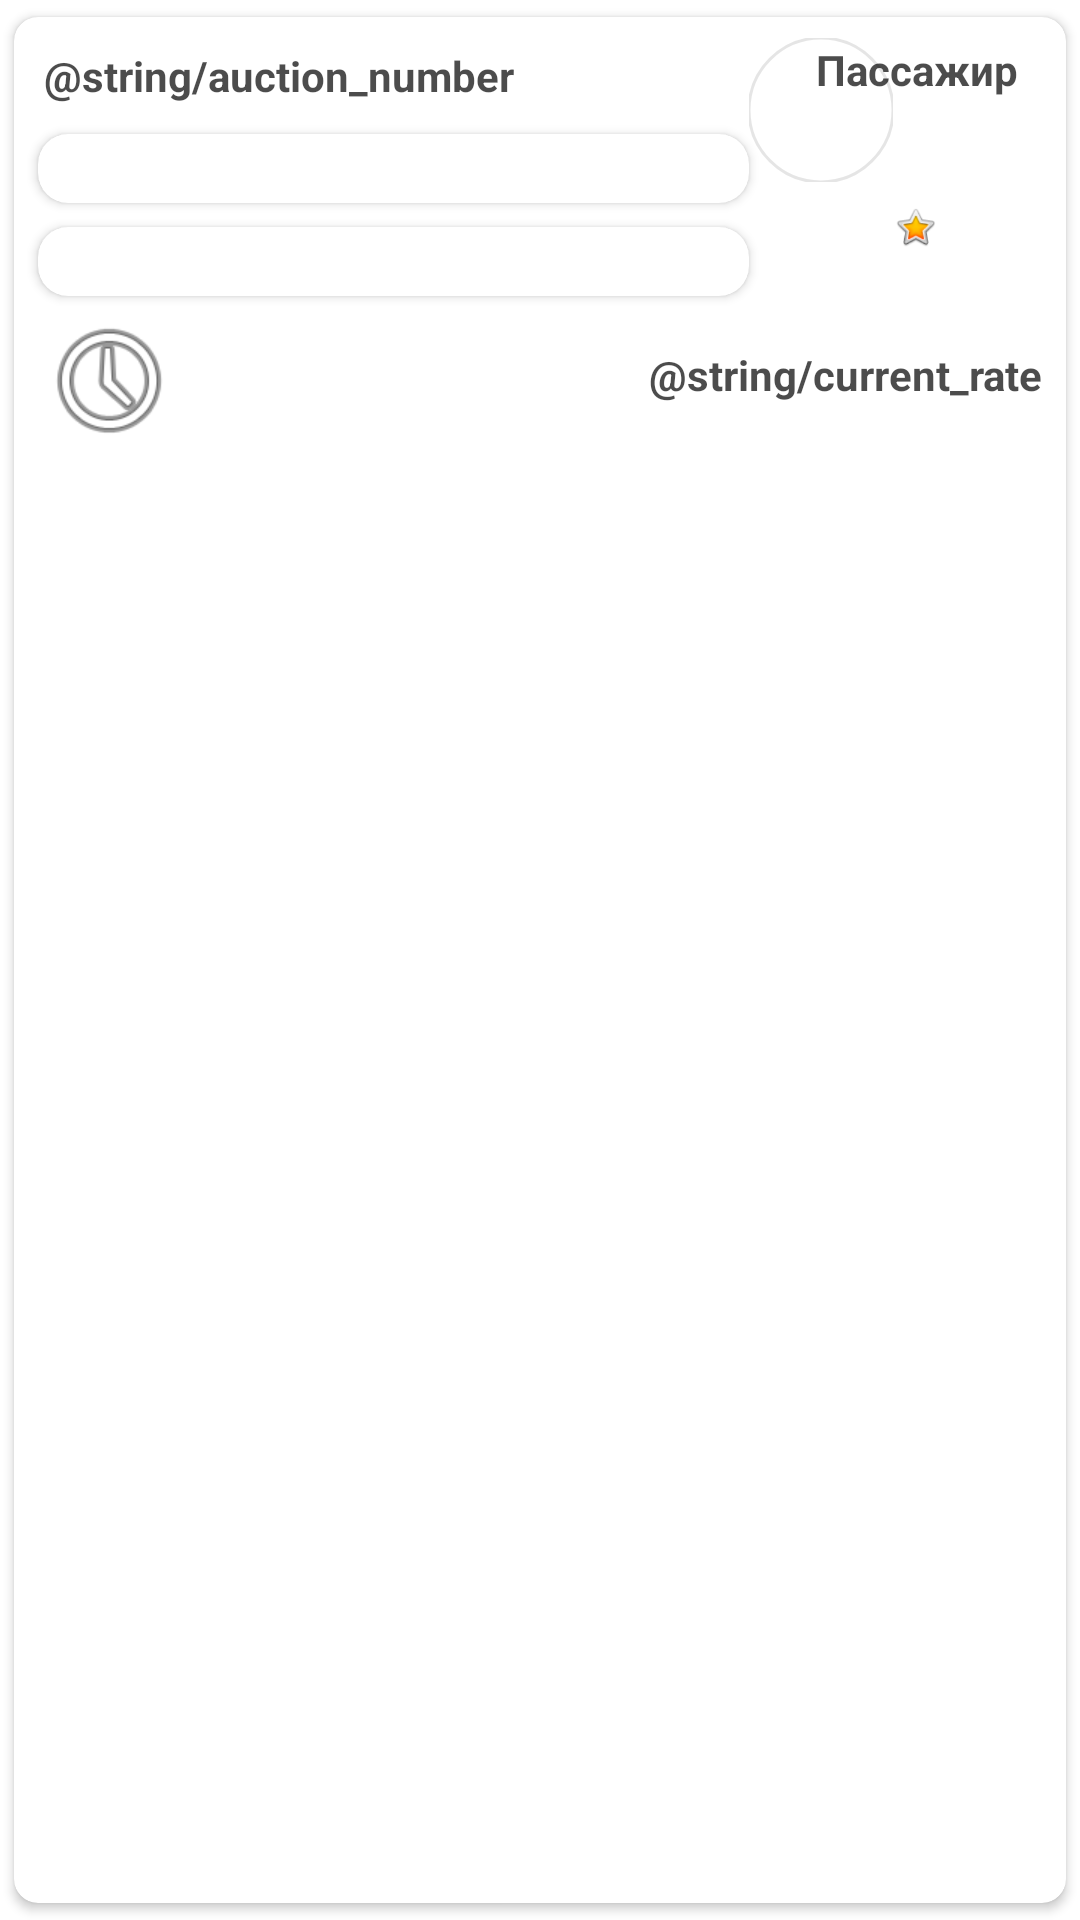

Named icons in this screenshot (1080x1920) and their bounding boxes, (x1, y1, x2, y2):
recent history: (57, 329, 162, 433)
star on: (897, 209, 935, 246)
